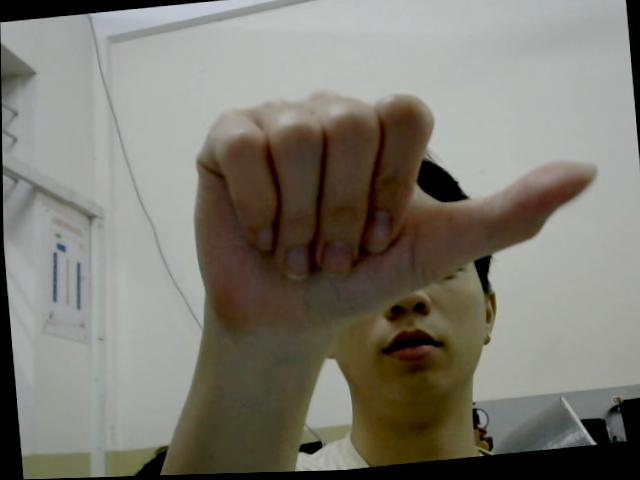A: (182, 65, 605, 332)
